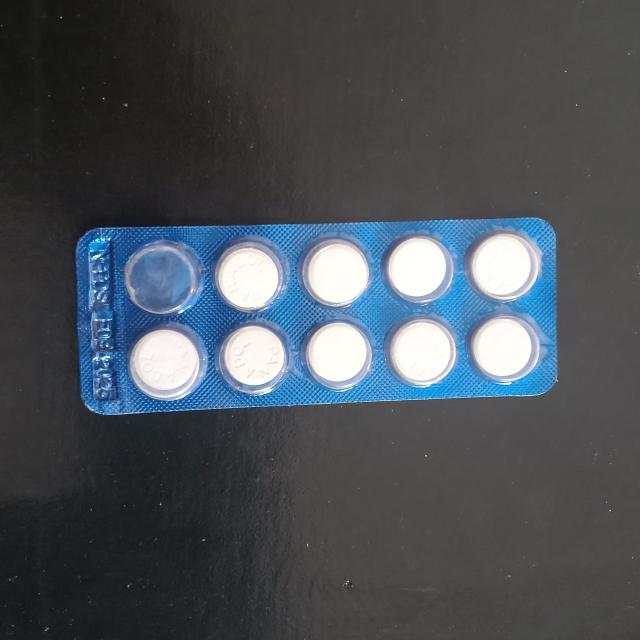defect: (117, 242, 209, 324)
